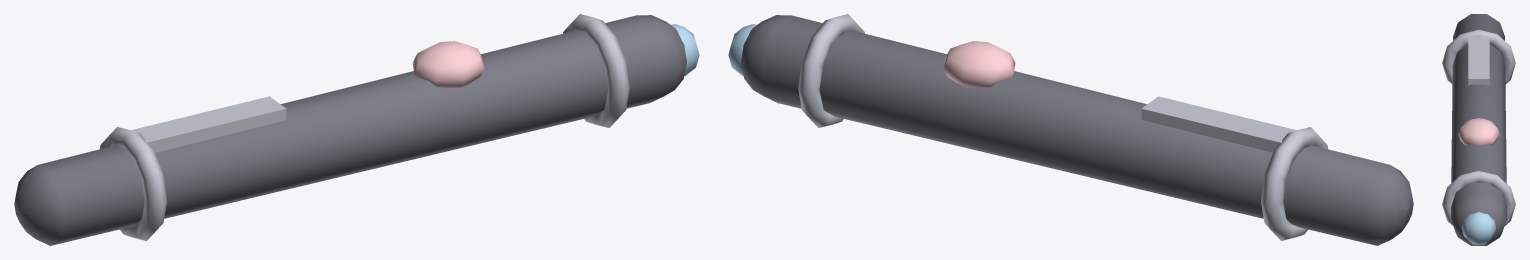
The model's file is companion-animals-and-pet-home-laser-pointer-9ab7b06e__20661.glb.
3 views of the same model, side by side, from view 1: azimuth 30°, elevation 25°; view 2: azimuth 150°, elevation 25°; view 3: azimuth 270°, elevation 25° (orthographic). The views are drawn at different scales.
Visible parts, largest first — view 1: laser-pointer; view 2: laser-pointer; view 3: laser-pointer.
Part boxes in pixels (x1,y1,x2,y2): laser-pointer: [14, 14, 699, 245]; laser-pointer: [728, 14, 1413, 245]; laser-pointer: [1442, 14, 1515, 245].
Bounding box in the file's own units: 0.139 × 0.0225 × 0.021.
